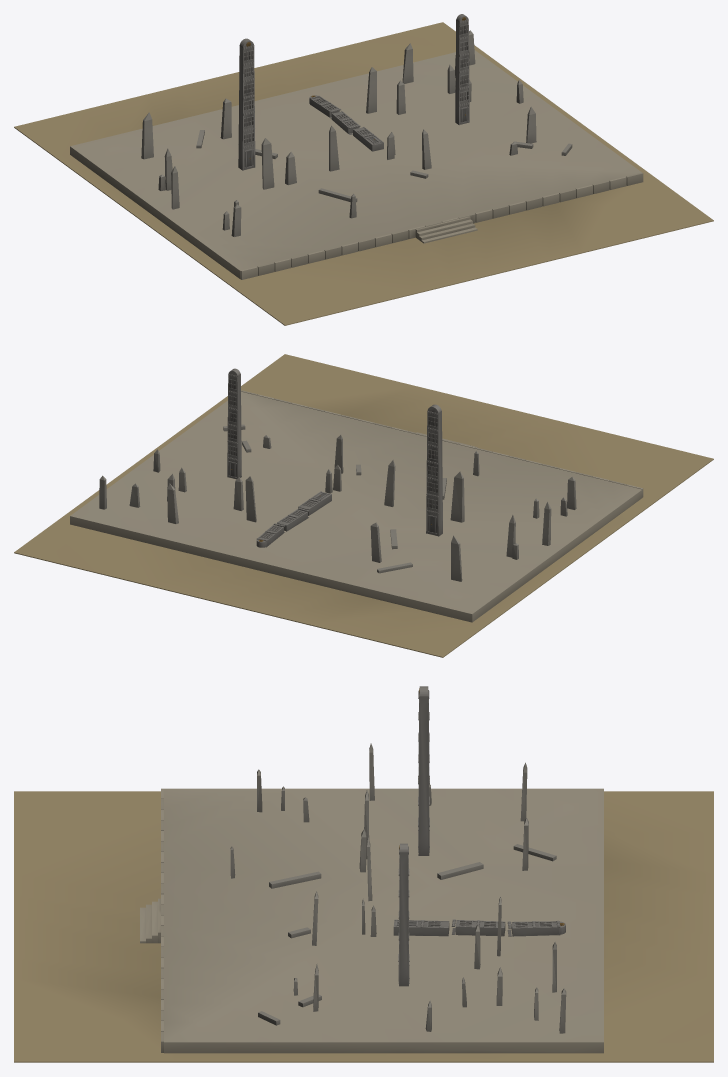
Rendered from northern-stelae.glb.
The picture shows the model from 3 angles, top to bottom: view 1: azimuth 30°, elevation 25°; view 2: azimuth 150°, elevation 25°; view 3: azimuth 270°, elevation 25°; orthographic projection. The views are drawn at different scales.
Parts seen in each view (by area): view 1: p1_terrace, p0_ground, p2_stelae; view 2: p1_terrace, p0_ground, p2_stelae; view 3: p1_terrace, p0_ground, p2_stelae.
Part boxes in pixels (x1,y1,x2,y2): p1_terrace: (70,50,643,279); p0_ground: (14,22,713,325); p2_stelae: (141,14,572,236); p1_terrace: (70,390,643,622); p0_ground: (14,354,713,657); p2_stelae: (99,368,576,581); p1_terrace: (140,788,603,1053); p0_ground: (14,791,713,1062); p2_stelae: (230,686,566,1033).
Size of the model in its own units: 64 by 20.02 by 70.
